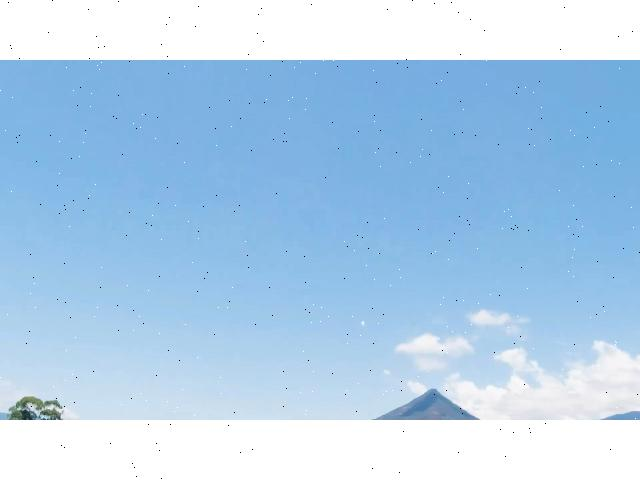Anti-Drone: (356, 316, 370, 329)
